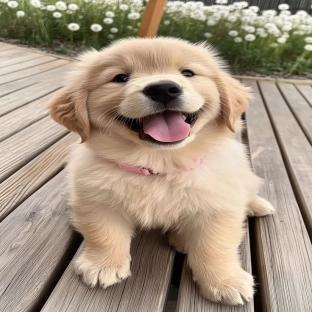Animal: (48, 37, 275, 305)
